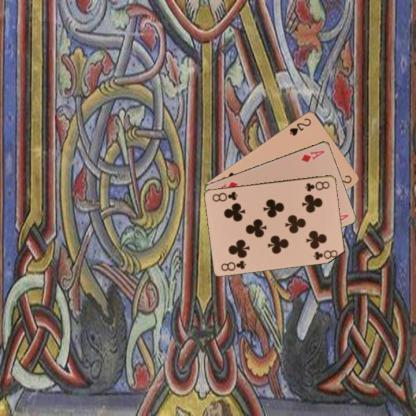2s: (286, 115, 312, 137)
8c: (218, 258, 248, 272), (302, 178, 331, 192)
Ad: (299, 148, 326, 164)
